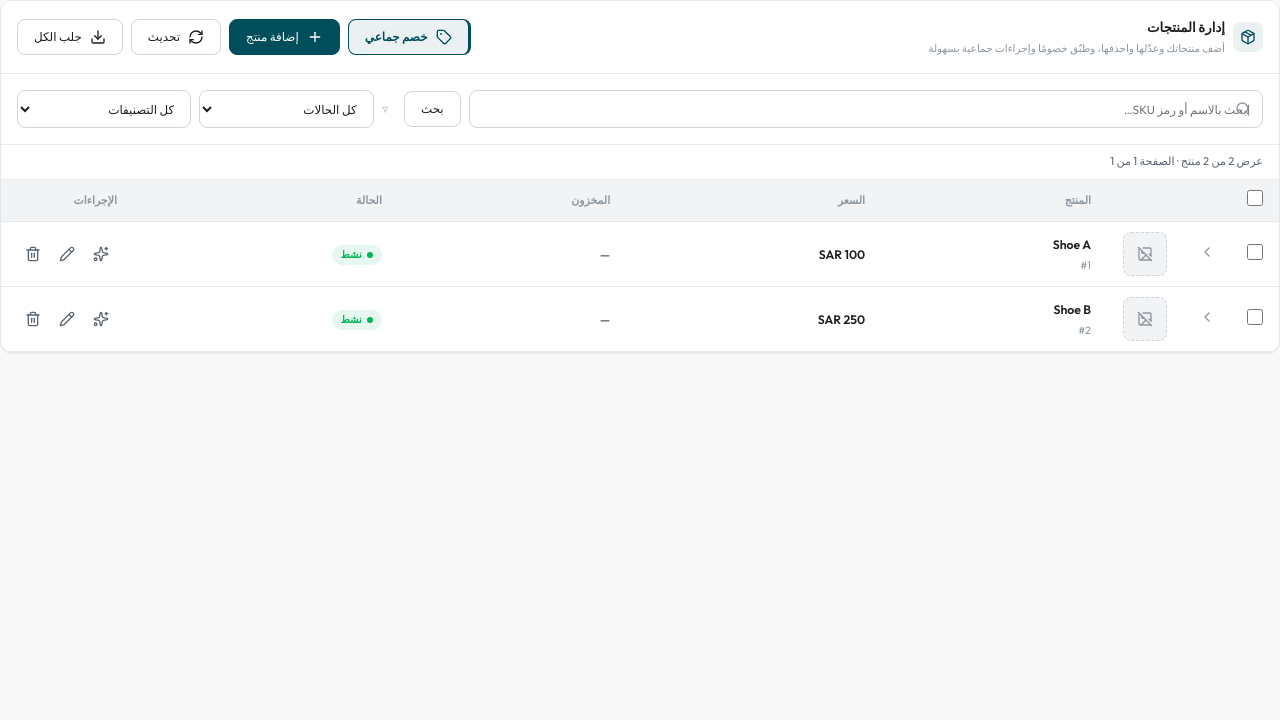
Test: Bulk product actions › validates forms before review
Click the checkbox named "تحديد Shoe A". click: click(1255, 252)
box: 1247,244 -> 1263,260
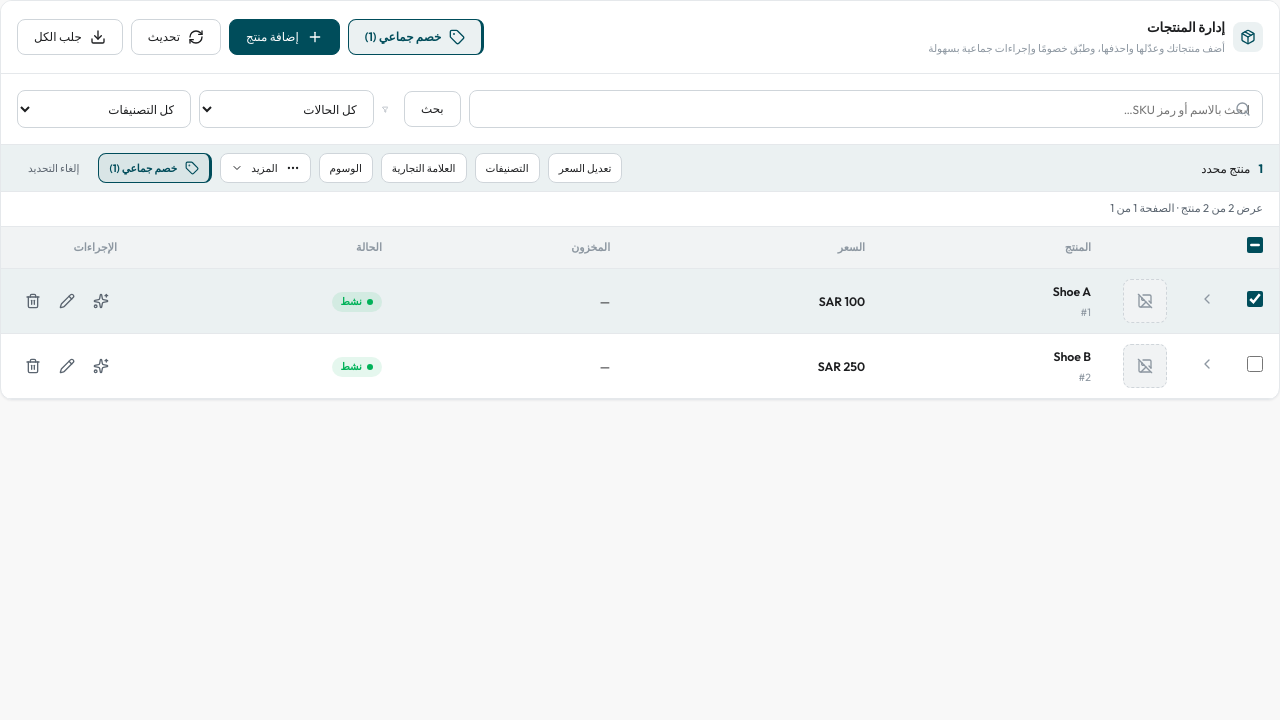
Click the button "المزيد". click: click(265, 168)
box: 220,153 -> 311,183
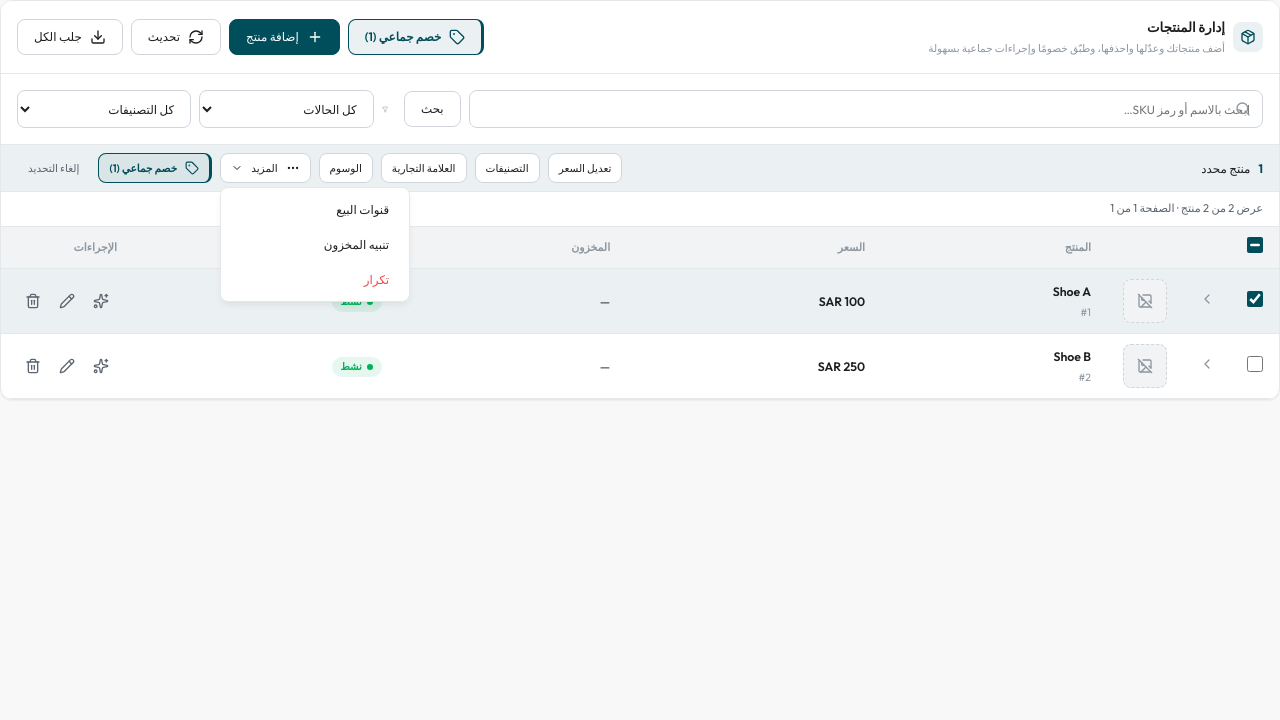
Click the menu item "تنبيه المخزون". click: click(315, 245)
box: 225,227 -> 405,262
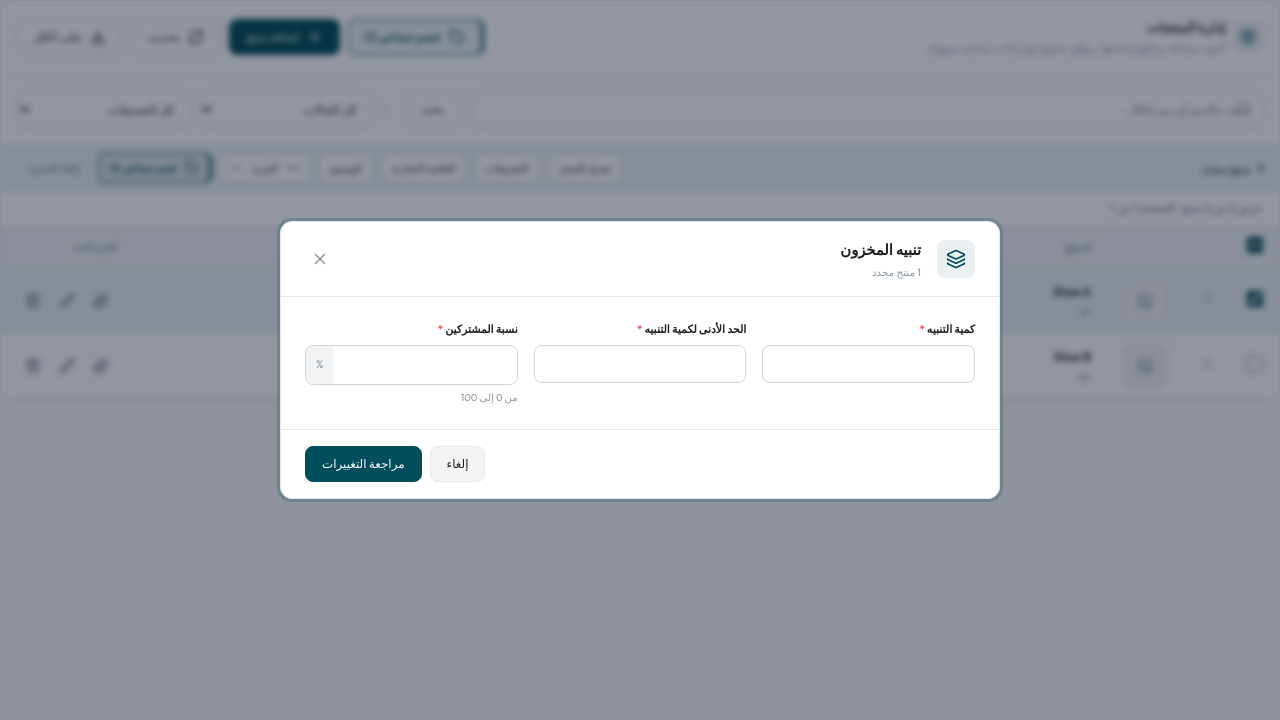
Click the button "مراجعة التغييرات". click: click(363, 464)
box: 305,446 -> 422,482
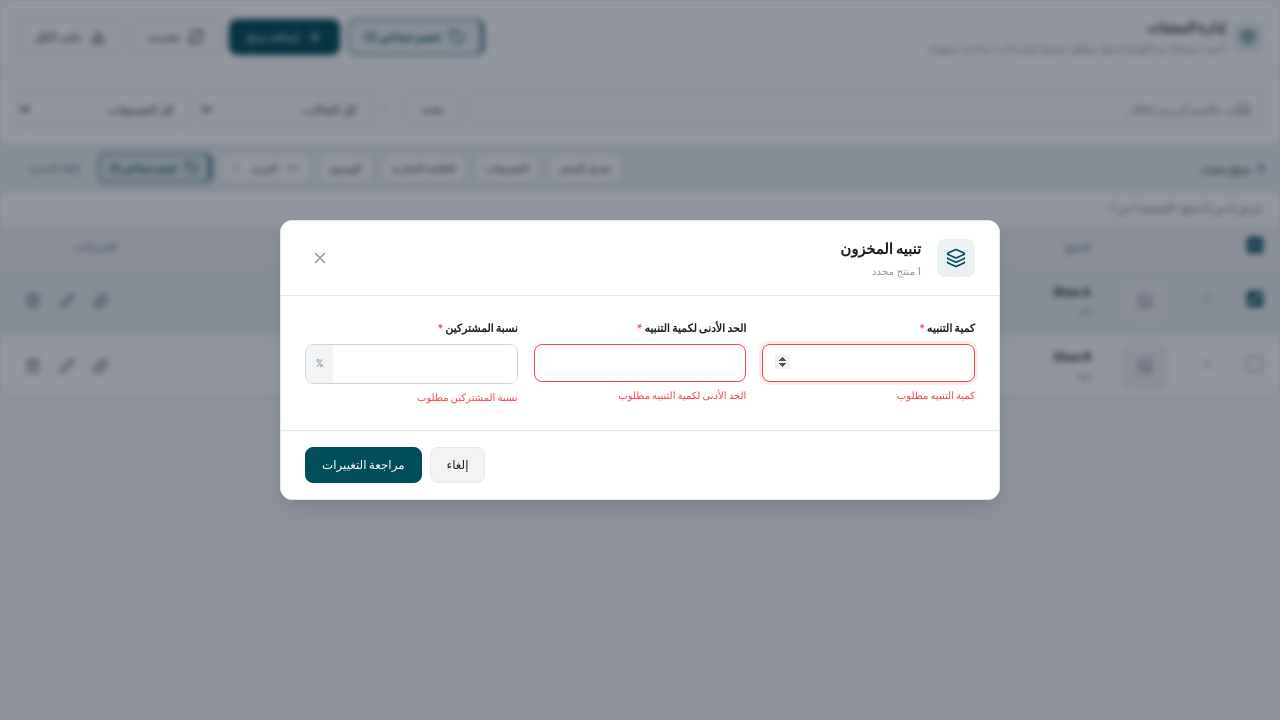
Result: the text "كمية التنبيه مطلوب" is shown at 897,389 -> 975,402
Type "10" into the number field labelled "كمية التنبيه*". click: (869, 363)
box: 762,344 -> 975,382
Type "20" into the number field labelled "الحد الأدنى لكمية التنبيه*". click: (640, 363)
box: 534,344 -> 746,382
Type "150" into the number field labelled "نسبة المشتركين*". click: (425, 364)
box: 333,345 -> 517,383
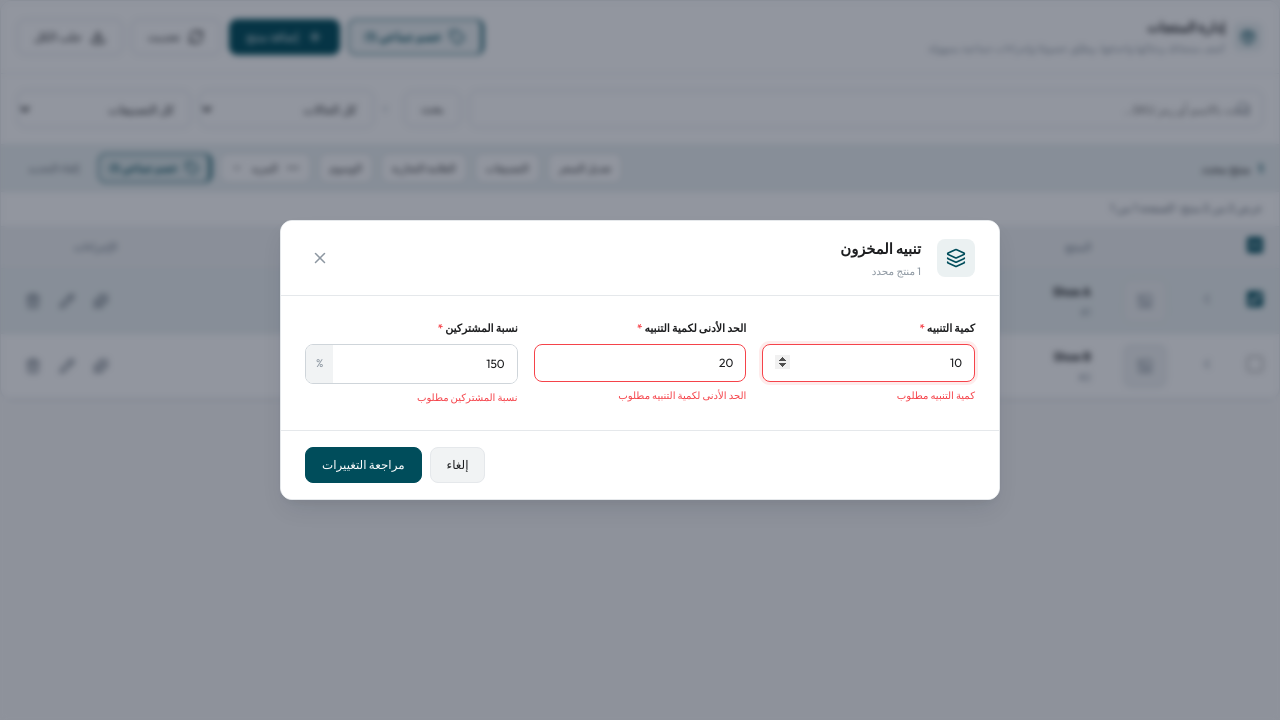
Click the button "مراجعة التغييرات". click: click(363, 465)
box: 305,447 -> 422,483
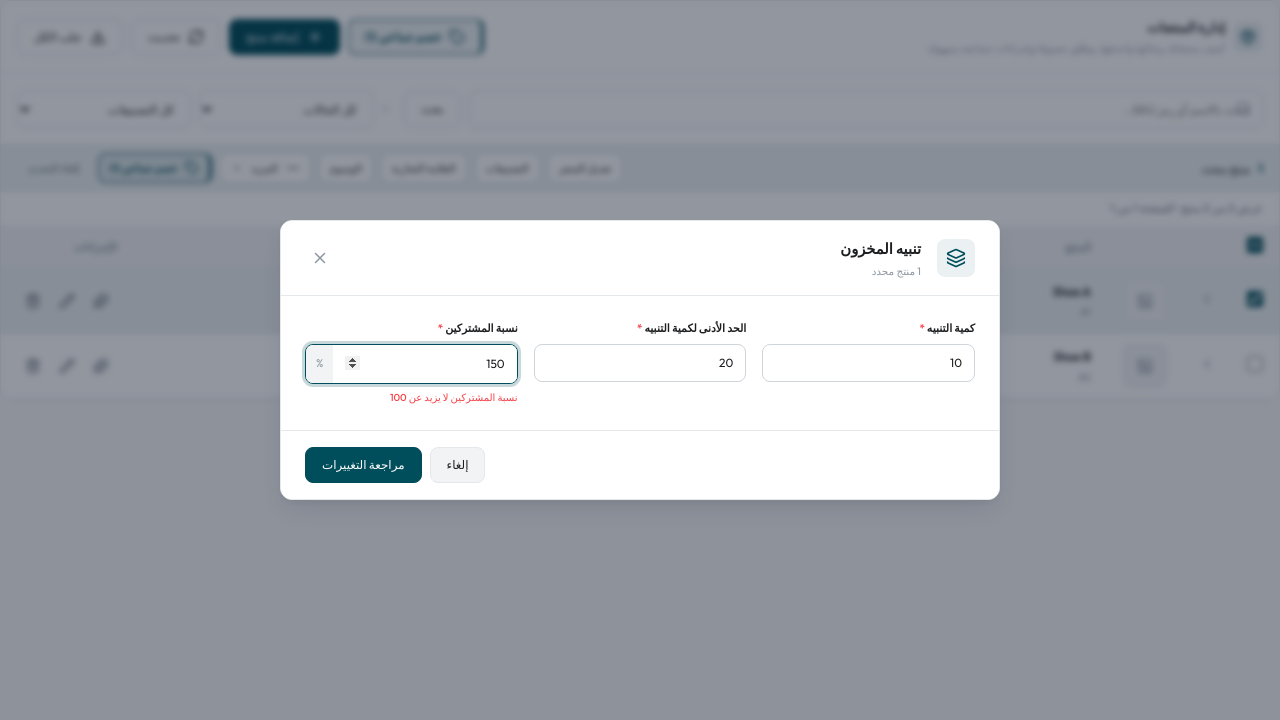
Result: the text "نسبة المشتركين لا يزيد عن 100" is shown at 390,391 -> 518,404
